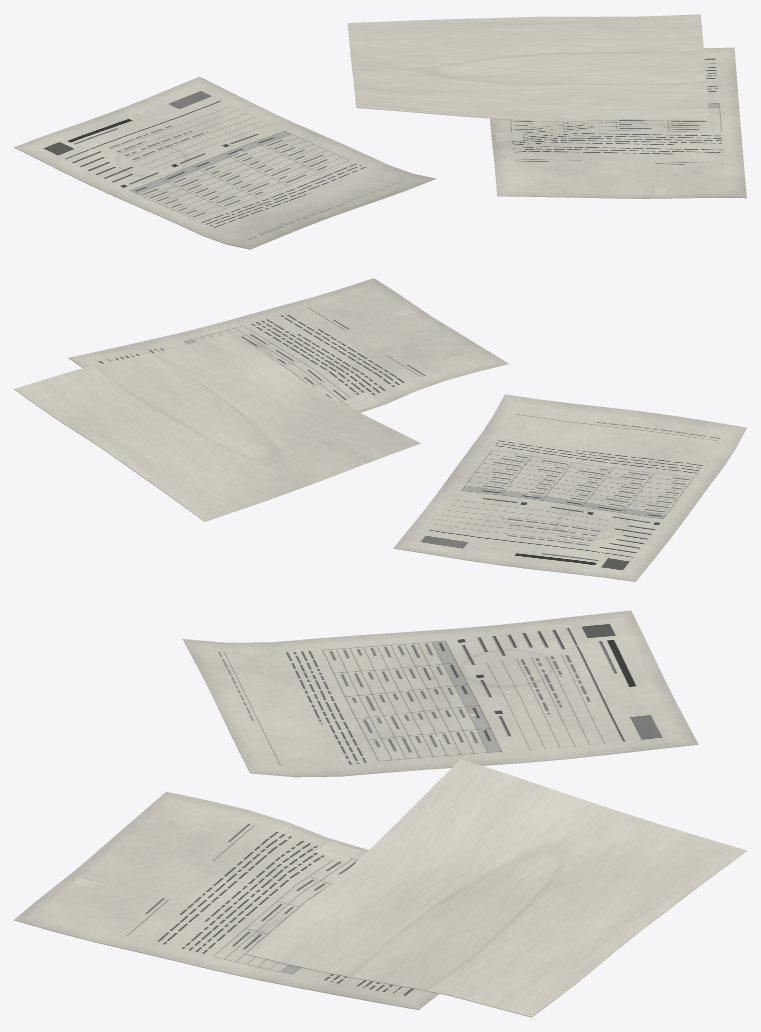
Rendered from SM_PaperDebris_B.fbx.
3 views of the same model, one above another, from view 1: azimuth 30°, elevation 25°; view 2: azimuth 150°, elevation 25°; view 3: azimuth 270°, elevation 25° (orthographic). The views are drawn at different scales.
Visible parts, largest first — view 1: SM_PaperDebris_B; view 2: SM_PaperDebris_B; view 3: SM_PaperDebris_B.
Part boxes in pixels (<box>): SM_PaperDebris_B: <box>14,14,746,249</box>; SM_PaperDebris_B: <box>14,278,746,581</box>; SM_PaperDebris_B: <box>14,610,746,1017</box>.
Size of the model in its own units: 62.9 by 2.1 by 47.49.
